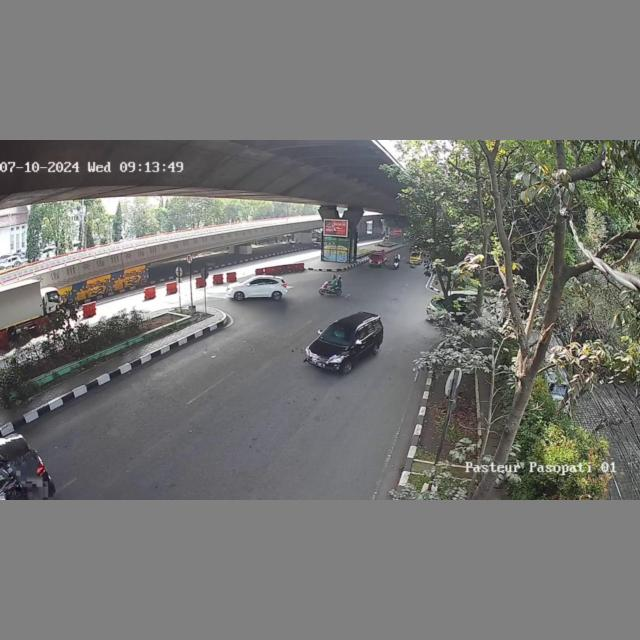windshield: (320, 321, 358, 347)
